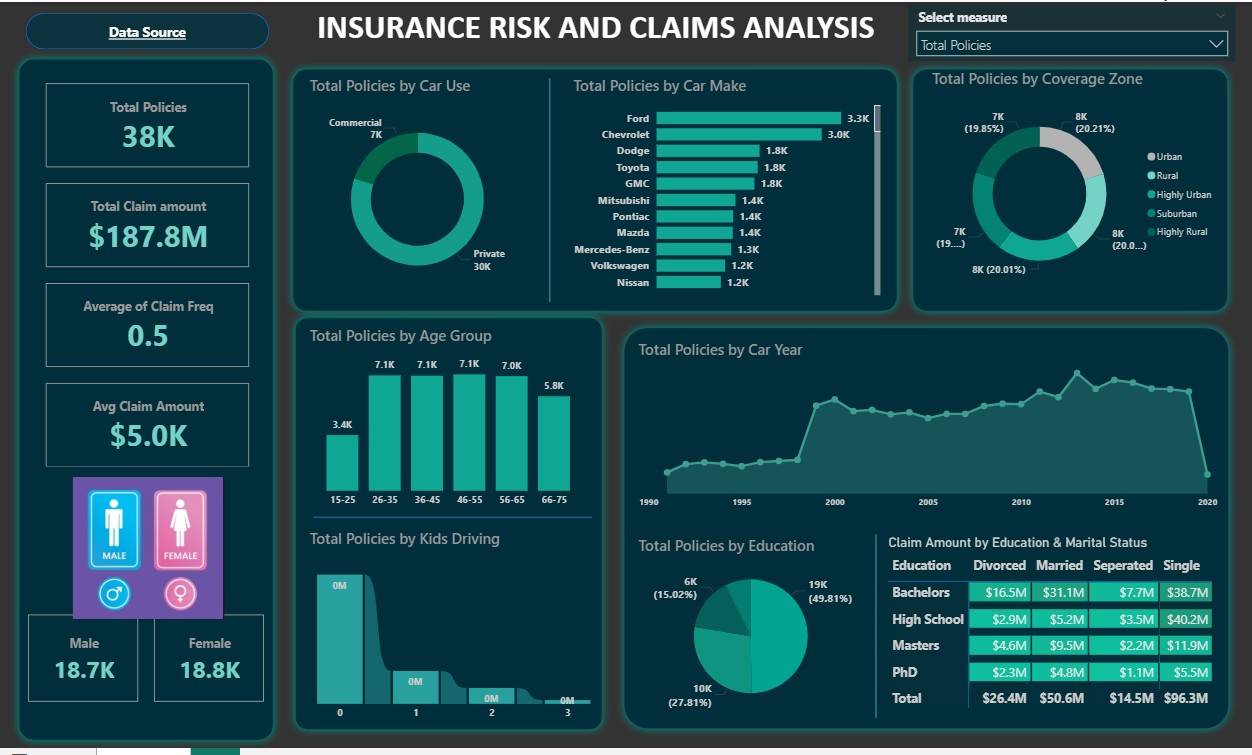

The page's visual inventory and layout, read from the dashboard file:
{"tool":"powerbi","page":{"name":"Page 1","canvas":[1600,950],"ordinal":0},"visuals":[{"type":"textbox","box":[403.1,0,727.3,61.7],"z":0},{"type":"shape","box":[17.2,61.7,344.8,888.5],"z":1000},{"type":"cardVisual","fields":{"Data":["insurance_data_car.Total Policies","insurance_data_car.Total Claim amount","Avg(insurance_data_car.Claim Freq)","insurance_data_car.Avg Claim Amount"]},"box":[56.6,99.5,269.3,500.9],"z":2000},{"type":"cardVisual","fields":{"Data":["insurance_data_car.Male Count","insurance_data_car.Female Count"]},"box":[36,790.7,312.2,120.1],"z":3000},{"type":"image","box":[36,600.3,312.2,190.4],"z":4000},{"type":"slicer","fields":{"Values":["Select measure.Select measure"]},"box":[1161.2,3.4,416.8,72],"z":5000},{"type":"shape","box":[365.4,75.5,790.7,329.3],"z":6000},{"type":"donutChart","fields":{"Y":["insurance_data_car.Total Policies"],"Category":["insurance_data_car.Car Use"]},"box":[392.8,94.3,284.7,289.9],"z":7000},{"type":"clusteredBarChart","fields":{"Y":["insurance_data_car.Total Policies"],"Category":["insurance_data_car.Car Make"]},"box":[729,94.3,401.4,284.7],"z":8000},{"type":"shape","box":[1156.1,75.5,422,329.3],"z":9000},{"type":"donutChart","fields":{"Y":["insurance_data_car.Total Policies"],"Category":["insurance_data_car.Coverage Zone"]},"box":[1185.3,84,375.6,295],"z":10000},{"type":"shape","box":[368.8,391.1,411.7,545.5],"z":11000},{"type":"clusteredColumnChart","fields":{"Y":["insurance_data_car.Total Policies"],"Category":["insurance_data_car.Age Group"]},"box":[393.2,412.3,364.5,240.4],"z":12000},{"type":"ribbonChart","fields":{"Y":["insurance_data_car.Total Policies"],"Category":["insurance_data_car.Kids Driving"]},"box":[392.8,670.7,377.4,253.9],"z":13000},{"type":"shape","box":[788,404.3,791.1,531.7],"z":14000},{"type":"stackedAreaChart","fields":{"Y":["insurance_data_car.Total Policies"],"Category":["insurance_data_car.Car Year"]},"box":[811.3,430.5,747.9,224.7],"z":15000},{"type":"pieChart","fields":{"Y":["insurance_data_car.Total Policies"],"Category":["insurance_data_car.Education"]},"box":[811.3,679.2,296.7,231.6],"z":16000},{"type":"pivotTable","title":"Claim Amount by Education & Marital Status","fields":{"Values":["insurance_data_car.Total Claim amount"],"Rows":["insurance_data_car.Education"],"Columns":["insurance_data_car.Marital Status"]},"box":[1130.4,677.5,428.8,233.3],"z":17000},{"type":"shape","box":[677.5,97.8,51.5,284.7],"z":17001},{"type":"shape","box":[1094.3,677.5,51.5,233.3],"z":17002},{"type":"shape","box":[403.1,506,355.1,300.2],"z":17003}]}

Visuals, with their boxes in screenshot pixels (x1, y1, x2, y2), scaled from the page's 1600x950 canvas onto the 1252x755 screenshot:
textbox: locate(315, 0, 885, 49)
shape: locate(13, 49, 283, 754)
cardVisual - insurance_data_car.Total Policies x insurance_data_car.Total Claim amount: locate(44, 79, 255, 477)
cardVisual - insurance_data_car.Male Count x insurance_data_car.Female Count: locate(28, 628, 272, 724)
image: locate(28, 477, 272, 628)
slicer - Select measure.Select measure: locate(909, 3, 1235, 60)
shape: locate(286, 60, 905, 322)
donutChart - insurance_data_car.Total Policies x insurance_data_car.Car Use: locate(307, 75, 530, 305)
clusteredBarChart - insurance_data_car.Total Policies x insurance_data_car.Car Make: locate(570, 75, 885, 301)
shape: locate(905, 60, 1235, 322)
donutChart - insurance_data_car.Total Policies x insurance_data_car.Coverage Zone: locate(927, 67, 1221, 301)
shape: locate(289, 311, 611, 744)
clusteredColumnChart - insurance_data_car.Total Policies x insurance_data_car.Age Group: locate(308, 328, 593, 519)
ribbonChart - insurance_data_car.Total Policies x insurance_data_car.Kids Driving: locate(307, 533, 603, 735)
shape: locate(617, 321, 1236, 744)
stackedAreaChart - insurance_data_car.Total Policies x insurance_data_car.Car Year: locate(635, 342, 1220, 521)
pieChart - insurance_data_car.Total Policies x insurance_data_car.Education: locate(635, 540, 867, 724)
"Claim Amount by Education & Marital Status" pivotTable: locate(885, 538, 1220, 724)
shape: locate(530, 78, 570, 304)
shape: locate(856, 538, 897, 724)
shape: locate(315, 402, 593, 641)
